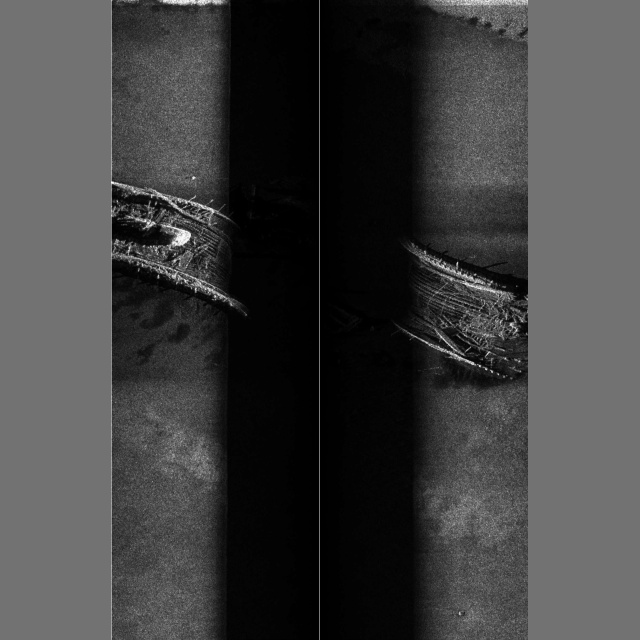Shipwreck: (111, 176, 528, 379)
